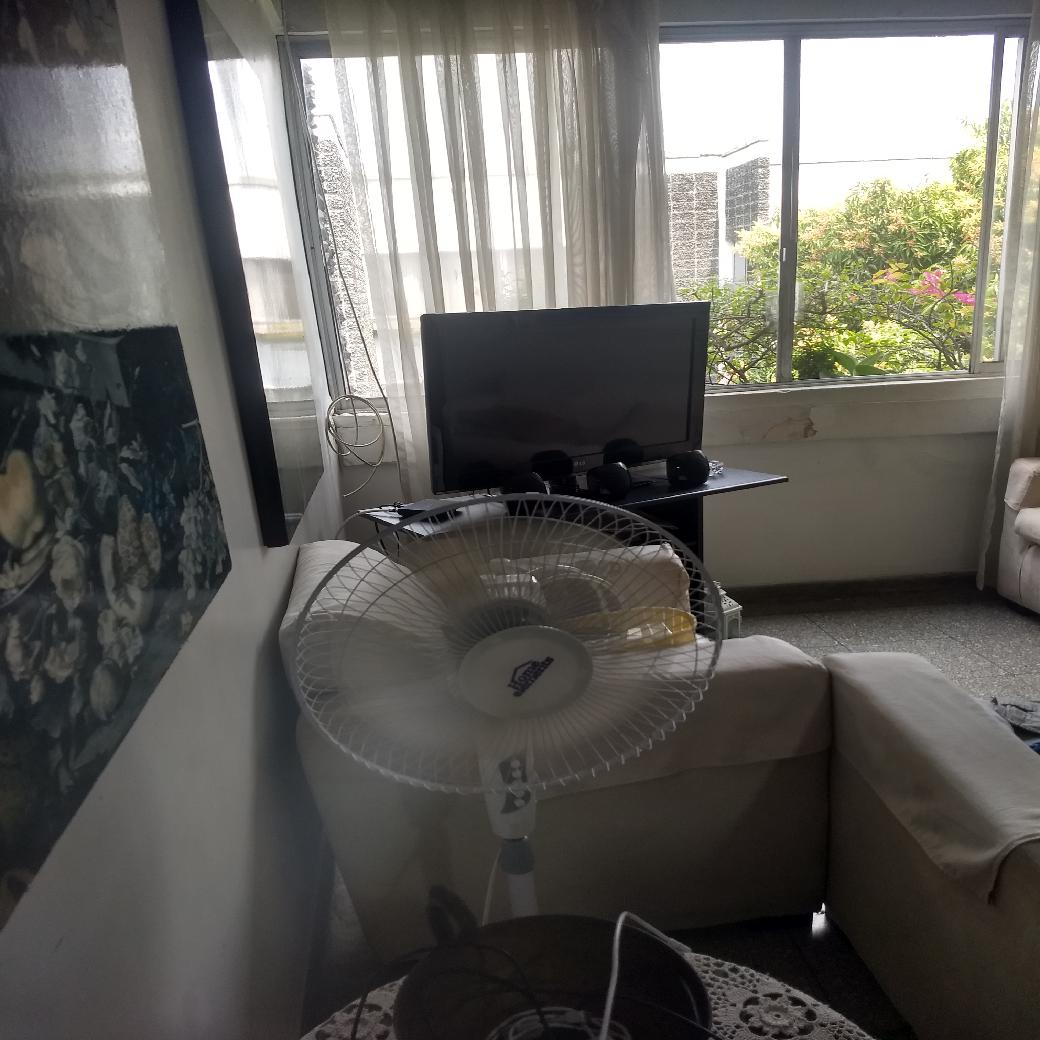tv: (416, 311, 716, 456)
ventilador: (297, 491, 729, 794)
